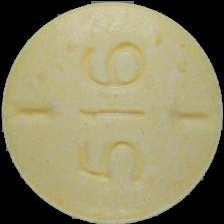63187-460: (0, 0, 224, 224)
